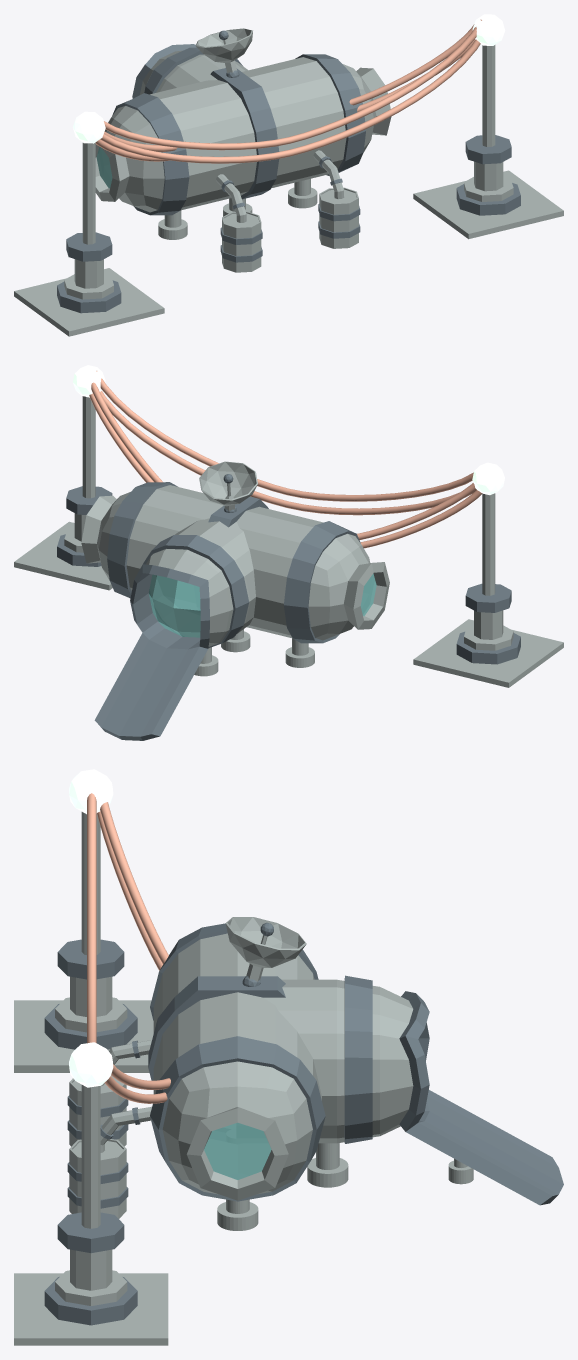
The model's file is Hab_Combo 2.fbx.
3 renders of one model, top to bottom at view 1: azimuth 30°, elevation 25°; view 2: azimuth 150°, elevation 25°; view 3: azimuth 270°, elevation 25°, orthographic. The views are drawn at different scales.
Visible parts, largest first — view 1: Sattlelight dish; view 2: Sattlelight dish; view 3: Sattlelight dish.
Part boxes in pixels (x1,y1,x2,y2): Sattlelight dish: (14,14,563,336); Sattlelight dish: (14,365,563,740); Sattlelight dish: (14,769,563,1345).
Size of the model in its own units: 1503 by 592 by 1033.
